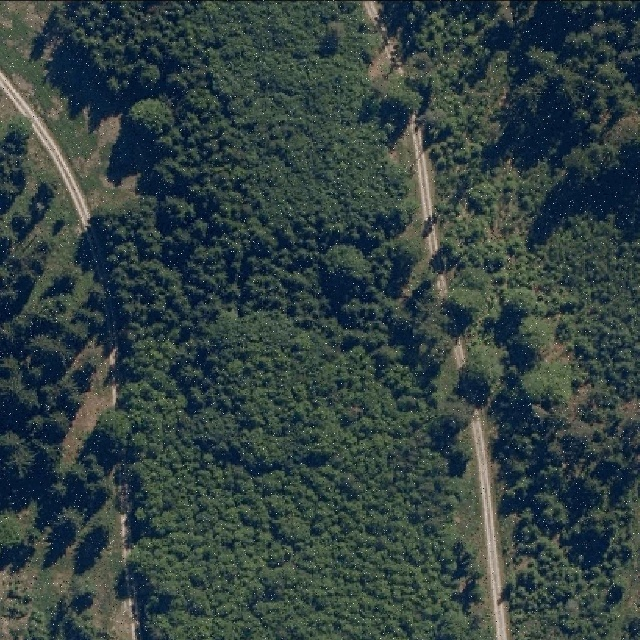vegetation: (54, 2, 494, 640), (0, 119, 113, 637)
